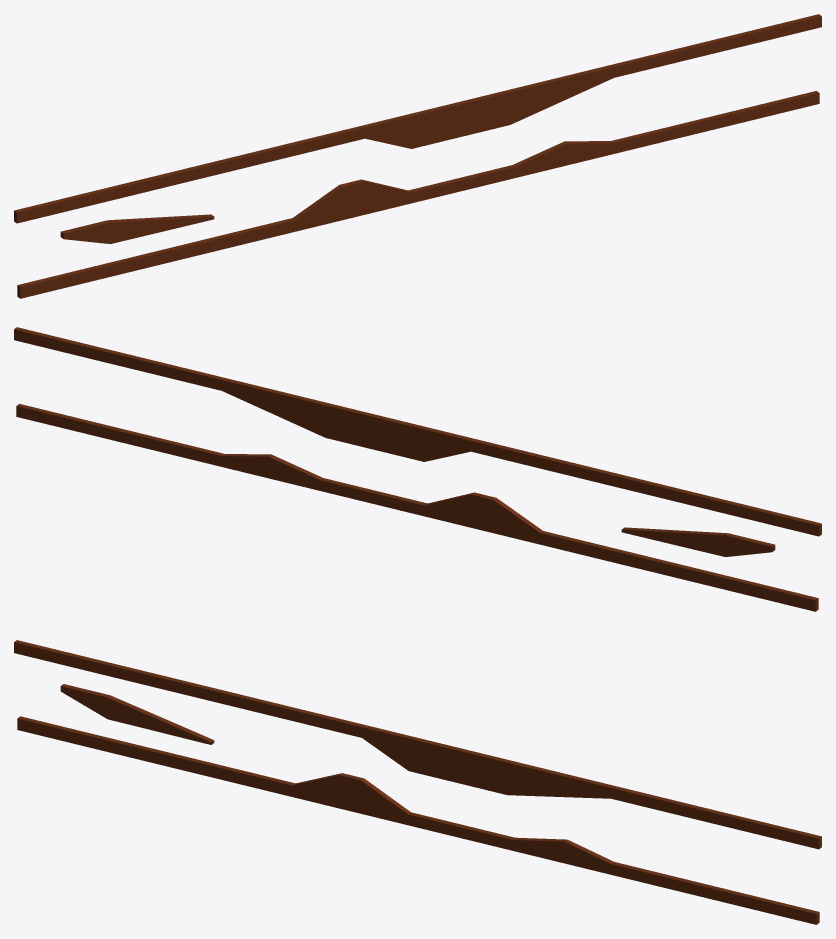
File: testlevel.fbx
3 views of the same model, one above another, from view 1: azimuth 30°, elevation 25°; view 2: azimuth 150°, elevation 25°; view 3: azimuth 330°, elevation 25° (orthographic).
Visible parts, largest first — view 1: Cube.001, Cube.002, Cube.003, Cube.005, Cube.004, Cube; view 2: Cube.001, Cube.002, Cube.003, Cube.004, Cube, Cube.005; view 3: Cube.001, Cube.002, Cube.003, Cube.005, Cube.004, Cube.
Boxes of the visible parts, box(x1,y1,x2,y2) form: Cube.001: box(14, 65, 614, 223); Cube.002: box(17, 116, 715, 298); Cube.003: box(60, 214, 214, 243); Cube.005: box(713, 91, 819, 128); Cube.004: box(715, 14, 821, 52); Cube: box(611, 39, 717, 77); Cube.001: box(221, 378, 821, 536); Cube.002: box(118, 429, 818, 611); Cube.003: box(621, 527, 775, 556); Cube.004: box(14, 327, 120, 365); Cube: box(118, 352, 224, 390); Cube.005: box(16, 404, 122, 441); Cube.001: box(14, 640, 613, 798); Cube.002: box(17, 716, 715, 899); Cube.003: box(60, 684, 214, 744); Cube.005: box(712, 886, 819, 924); Cube.004: box(715, 811, 821, 849); Cube: box(611, 785, 717, 823).
Size of the model in its own units: 11160 by 1152 by 72.18.
